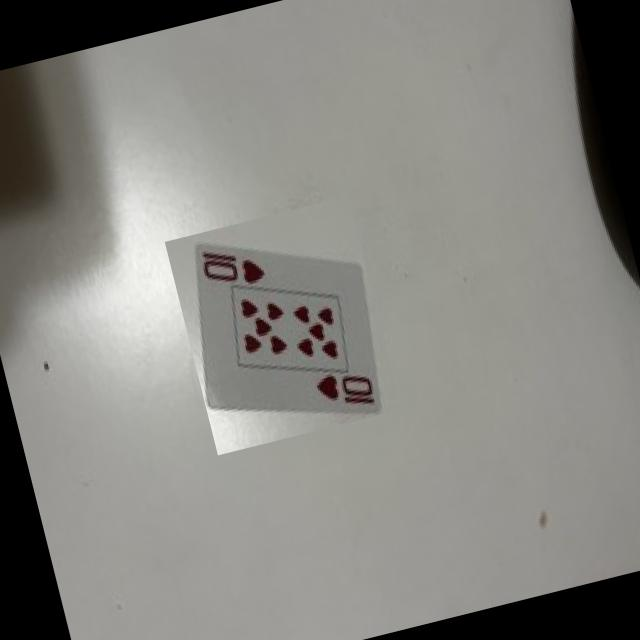10 of hearts: (188, 237, 383, 414)
